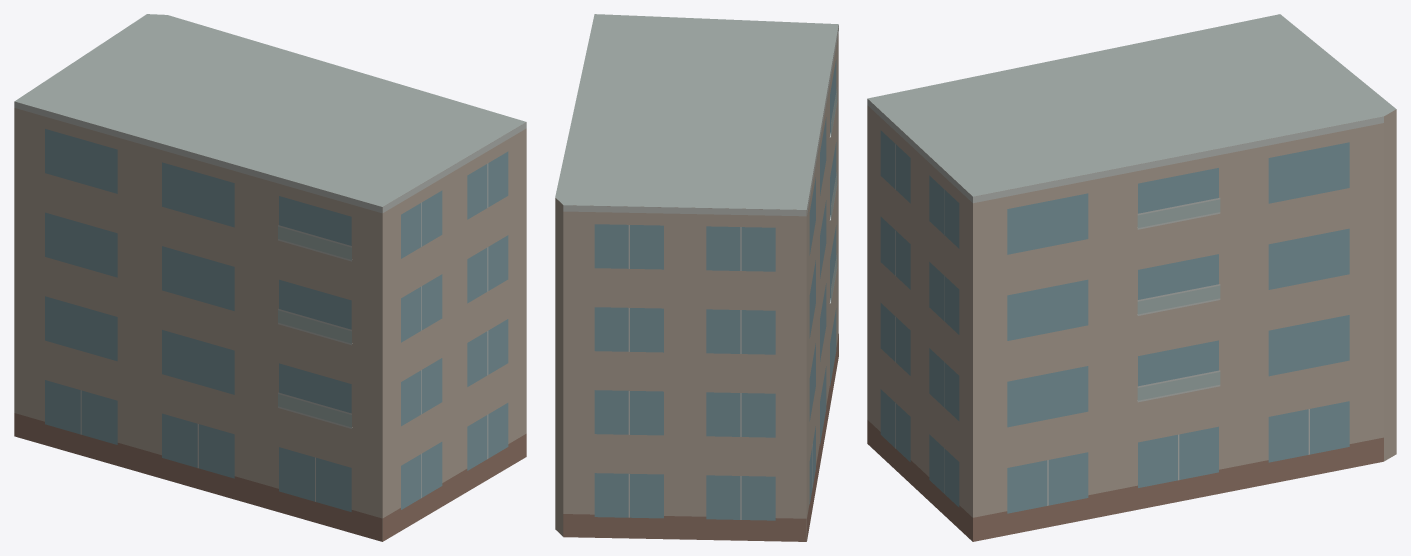
The model's file is survey-upis-32641470.glb.
3 renders of one model, left to right at view 1: azimuth 30°, elevation 25°; view 2: azimuth 150°, elevation 25°; view 3: azimuth 270°, elevation 25°, orthographic. The views are drawn at different scales.
Parts seen in each view (by area): view 1: survey-upis-32641470.tmp; view 2: survey-upis-32641470.tmp; view 3: survey-upis-32641470.tmp.
Boxes of the visible parts, box(x1,y1,x2,y2) form: survey-upis-32641470.tmp: box(14, 14, 526, 541); survey-upis-32641470.tmp: box(555, 14, 838, 541); survey-upis-32641470.tmp: box(867, 14, 1396, 541).
Bounding box in the file's own units: 14.54 × 12.8 × 17.79.
